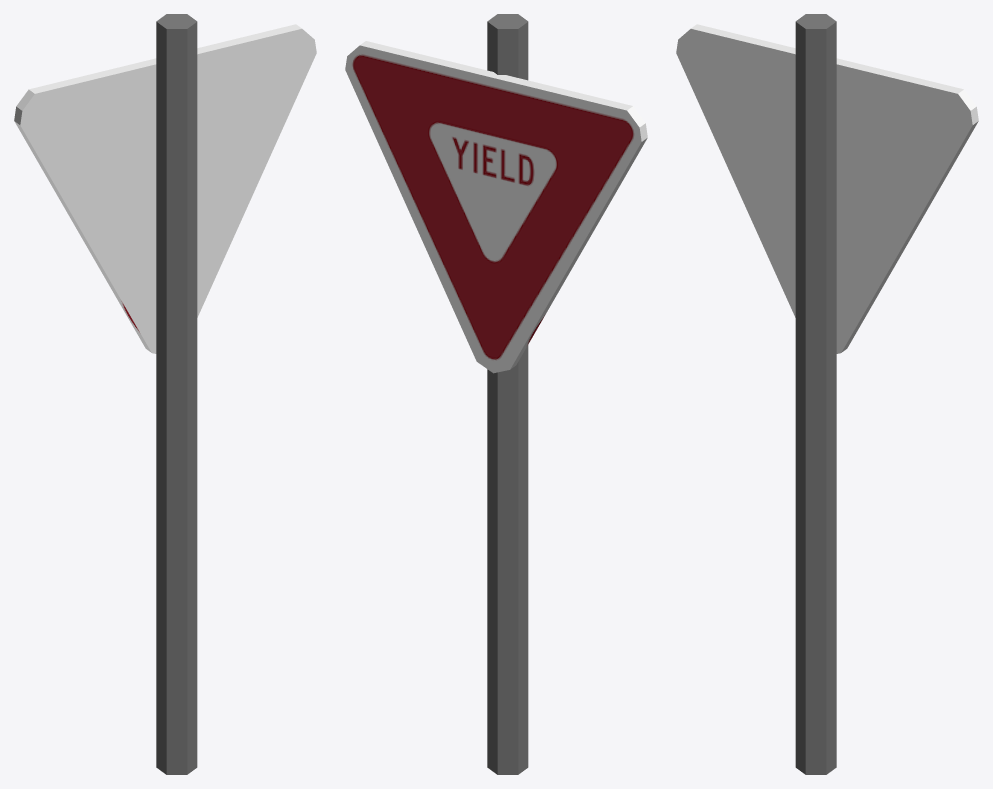
The model's file is yield-sign.fbx.
3 renders of one model, left to right at view 1: azimuth 30°, elevation 25°; view 2: azimuth 150°, elevation 25°; view 3: azimuth 330°, elevation 25°, orthographic.
Parts seen in each view (by area): view 1: YieldSign, YieldSignPost; view 2: YieldSign, YieldSignPost; view 3: YieldSign, YieldSignPost.
Boxes of the visible parts, x1,y1,x2,y2 form: YieldSign: [14, 24, 316, 353]; YieldSignPost: [156, 14, 197, 774]; YieldSign: [345, 41, 647, 373]; YieldSignPost: [487, 14, 528, 774]; YieldSign: [676, 24, 978, 353]; YieldSignPost: [795, 14, 836, 774].
Bounding box in the file's own units: 83.2 × 200 × 12.04.
2 materials, 1 textured.
